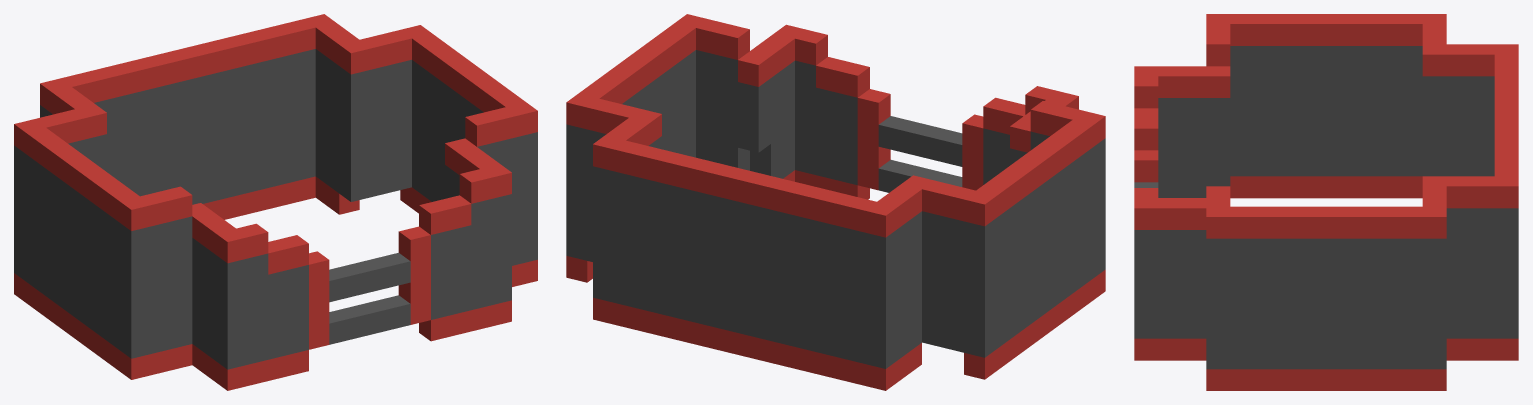
The picture shows the model from 3 angles, left to right: view 1: azimuth 30°, elevation 25°; view 2: azimuth 150°, elevation 25°; view 3: azimuth 270°, elevation 25°; orthographic projection. The views are drawn at different scales.
Visible parts, largest first — view 1: 34; view 2: 34; view 3: 34.
Boxes of the visible parts, x1,y1,x2,y2 form: 34: [14, 14, 537, 390]; 34: [566, 14, 1105, 390]; 34: [1134, 14, 1518, 390].
Size of the model in its own units: 2 by 0.8 by 1.6.
Materials: 1 (1 with a texture image).
